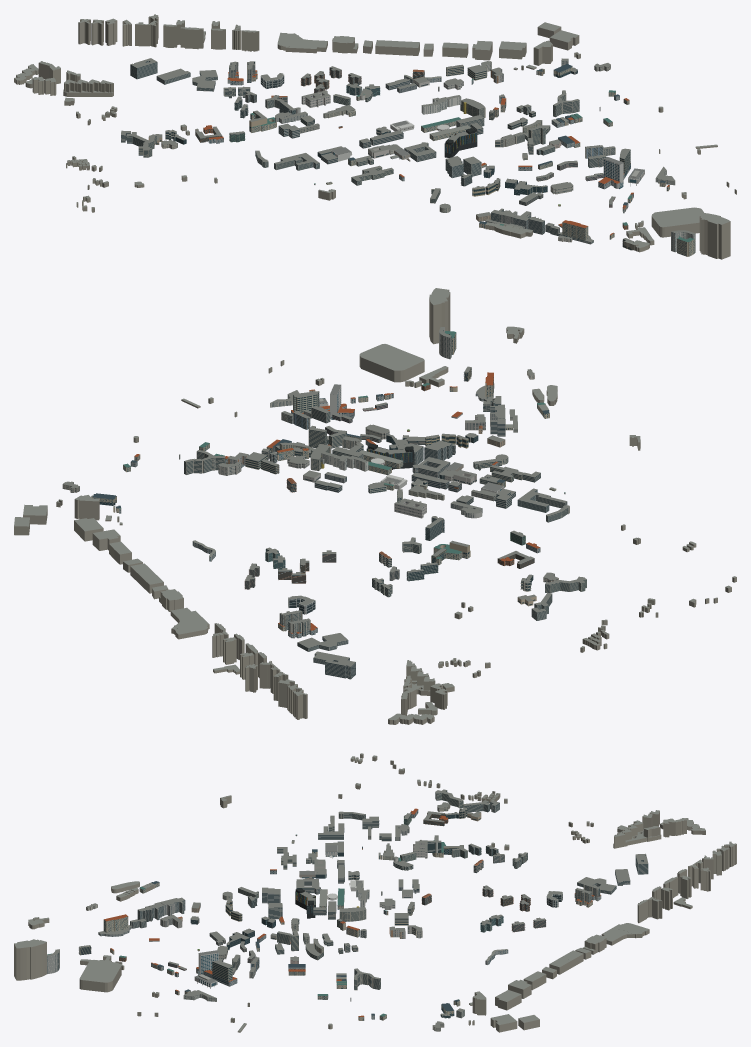
The model's file is buildings-low.glb.
3 views of the same model, one above another, from view 1: azimuth 30°, elevation 25°; view 2: azimuth 150°, elevation 25°; view 3: azimuth 270°, elevation 25° (orthographic). The views are drawn at different scales.
Parts seen in each view (by area): view 1: web_building_185253514, web_building_1080920665, web_building_107139044, web_building_914973821, web_building_733045756, web_building_1243363293, web_building_135787368, web_building_201907981, web_building_2532440, web_building_696387742, web_building_1424777851, web_building_923320416 (+3 smaller); view 2: web_building_1080920665, web_building_185253514; view 3: web_building_185253514, web_building_1080920665.
Part boxes in pixels (x1,y1,x2,y2): web_building_185253514: [699, 213, 730, 259]; web_building_1080920665: [651, 207, 703, 237]; web_building_107139044: [444, 128, 477, 157]; web_building_914973821: [180, 27, 203, 49]; web_building_733045756: [278, 33, 327, 53]; web_building_1243363293: [421, 95, 461, 114]; web_building_135787368: [499, 41, 526, 59]; web_building_201907981: [603, 157, 623, 188]; web_building_2532440: [130, 58, 157, 79]; web_building_696387742: [553, 90, 579, 117]; web_building_1424777851: [192, 70, 217, 91]; web_building_923320416: [562, 220, 588, 241]; web_building_1080920665: [359, 344, 424, 382]; web_building_185253514: [429, 288, 450, 344]; web_building_185253514: [14, 939, 46, 980]; web_building_1080920665: [79, 960, 121, 992].
Bounding box in the file's own units: 1739 × 175 × 2074.
